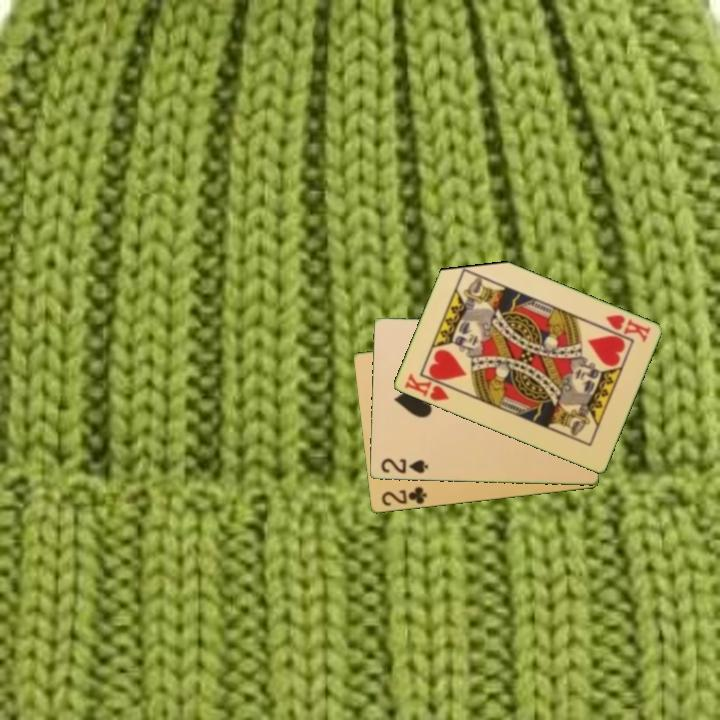2c: (378, 484, 429, 509)
2s: (377, 455, 431, 477)
Kh: (401, 370, 458, 404), (601, 311, 653, 345)
